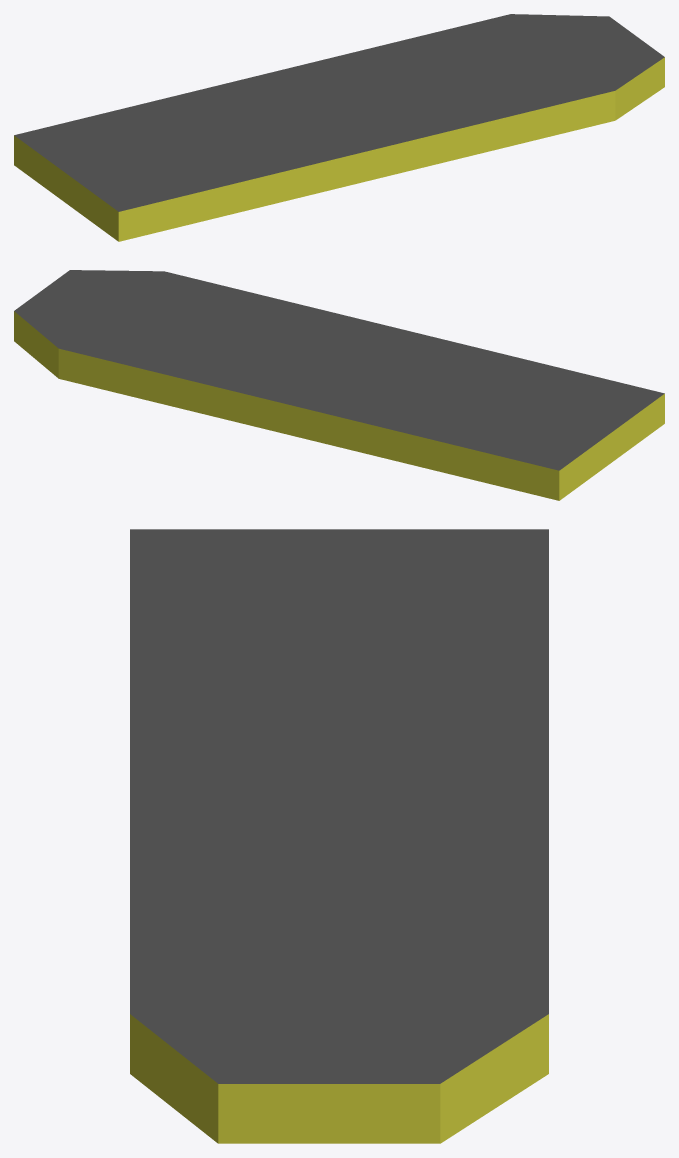
The model's file is apollo.dae.
The picture shows the model from 3 angles, top to bottom: view 1: azimuth 30°, elevation 25°; view 2: azimuth 150°, elevation 25°; view 3: azimuth 270°, elevation 25°; orthographic projection. The views are drawn at different scales.
Visible parts, largest first — view 1: SketchUp (×2); view 2: SketchUp (×2); view 3: SketchUp (×2).
Boxes of the visible parts, bbox=[...] form: SketchUp (×2): bbox=[14, 14, 664, 241]; SketchUp (×2): bbox=[14, 270, 664, 500]; SketchUp (×2): bbox=[130, 529, 548, 1143].
Bounding box in the file's own units: 46.85 × 14.96 × 2.36.
